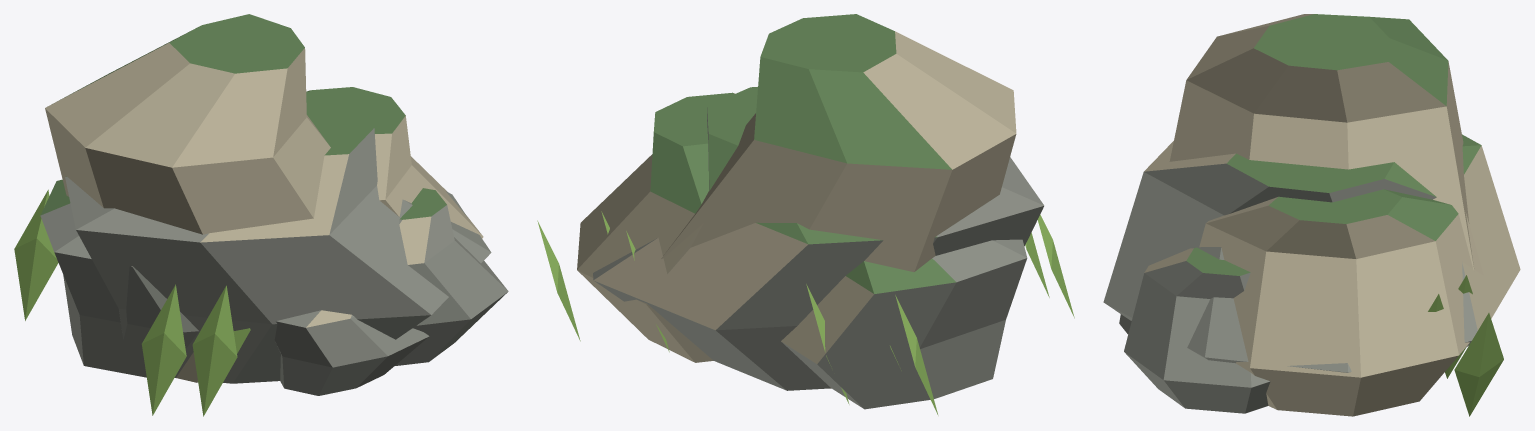
Rendered from rock.glb.
3 renders of one model, left to right at view 1: azimuth 30°, elevation 25°; view 2: azimuth 150°, elevation 25°; view 3: azimuth 270°, elevation 25°, orthographic. The views are drawn at different scales.
Visible parts, largest first — view 1: Rock_tall_split_boulder, Rock_broad_boulder, Rock_low_cluster_left, Rock_broken_shard, Rock_small_front_pebble, Rock_low_cluster_right, decor_Grass.002, decor_Grass, decor_Grass.003; view 2: Rock_tall_split_boulder, Rock_broad_boulder, Rock_low_cluster_left, Rock_low_cluster_right, decor_Grass.003, decor_Grass.007, decor_Grass; view 3: Rock_low_cluster_right, Rock_tall_split_boulder, Rock_broad_boulder, Rock_broken_shard, decor_Grass.007.
Part boxes in pixels (<box>): Rock_tall_split_boulder: <box>45,14,330,382</box>; Rock_broad_boulder: <box>65,91,491,383</box>; Rock_low_cluster_left: <box>40,179,198,377</box>; Rock_broken_shard: <box>395,188,508,365</box>; Rock_small_front_pebble: <box>274,310,429,395</box>; Rock_low_cluster_right: <box>307,87,483,238</box>; decor_Grass.002: <box>192,285,237,416</box>; decor_Grass: <box>141,284,186,415</box>; decor_Grass.003: <box>14,189,58,320</box>; Rock_tall_split_boulder: <box>661,14,1016,388</box>; Rock_broad_boulder: <box>593,87,1044,390</box>; Rock_low_cluster_left: <box>781,239,1027,409</box>; Rock_low_cluster_right: <box>577,92,734,362</box>; decor_Grass.003: <box>895,295,938,415</box>; decor_Grass.007: <box>537,220,580,341</box>; decor_Grass: <box>1037,214,1074,318</box>; Rock_low_cluster_right: <box>1199,189,1483,416</box>; Rock_tall_split_boulder: <box>1169,14,1474,271</box>; Rock_broad_boulder: <box>1103,134,1520,372</box>; Rock_broken_shard: <box>1124,247,1270,413</box>; decor_Grass.007: <box>1454,313,1503,416</box>.
Size of the model in its own units: 0.8825 by 0.58 by 0.7488.
